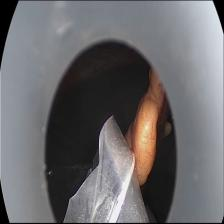Specimen Bag: (61, 114, 150, 224)
